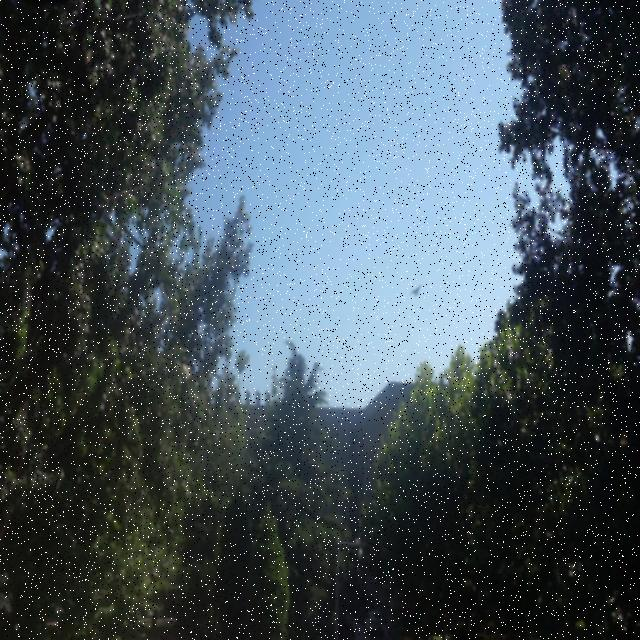UAV: (410, 285, 422, 298)
